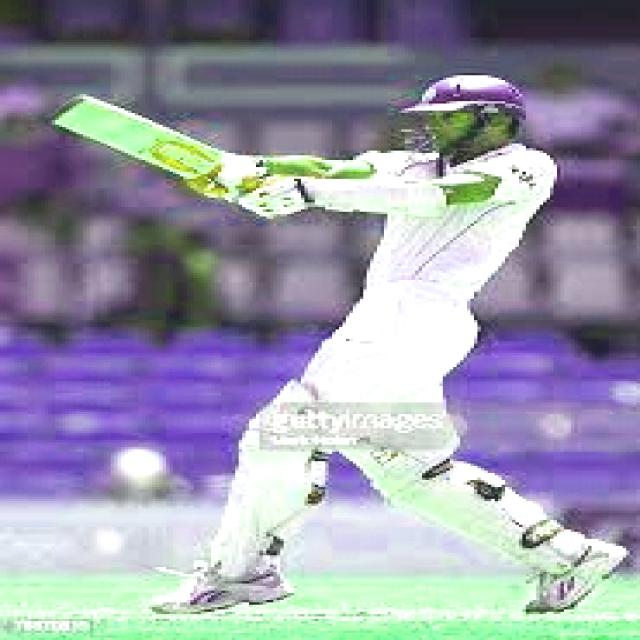toe: (41, 81, 91, 132)
